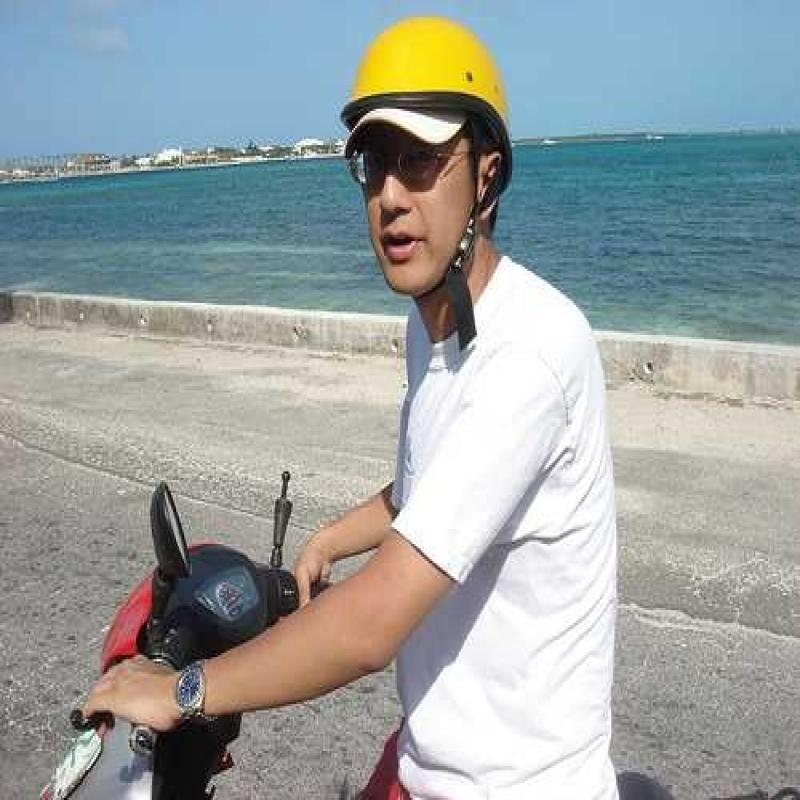bike: (82, 450, 322, 789)
